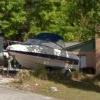Boat: (5, 34, 79, 73)
